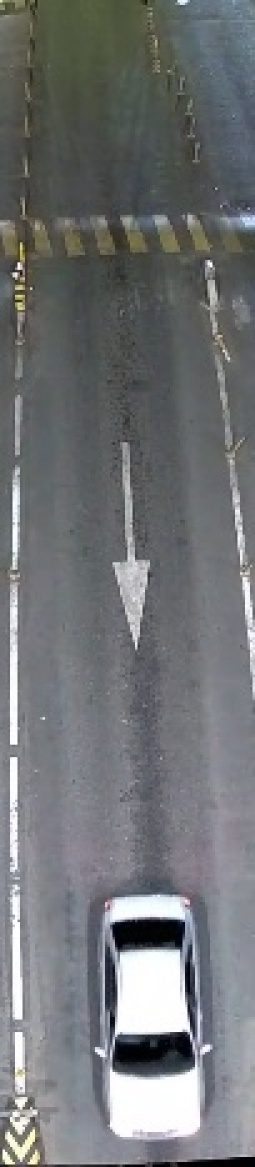car: (102, 897, 218, 1145)
